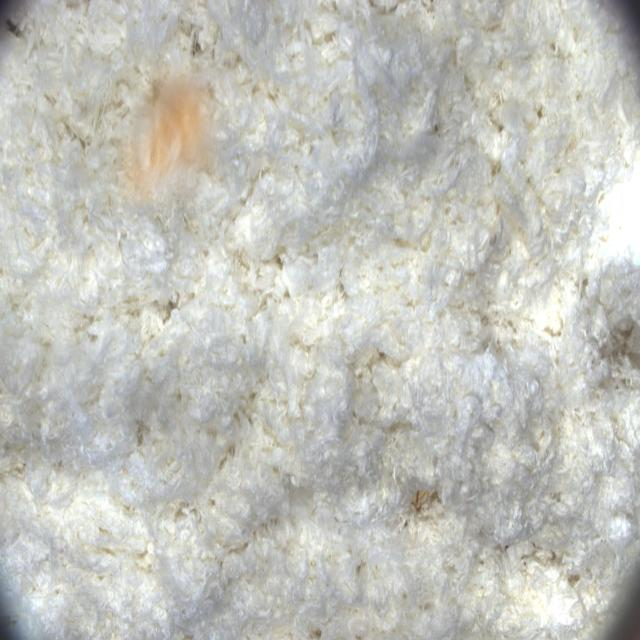dust: (108, 60, 231, 207)
